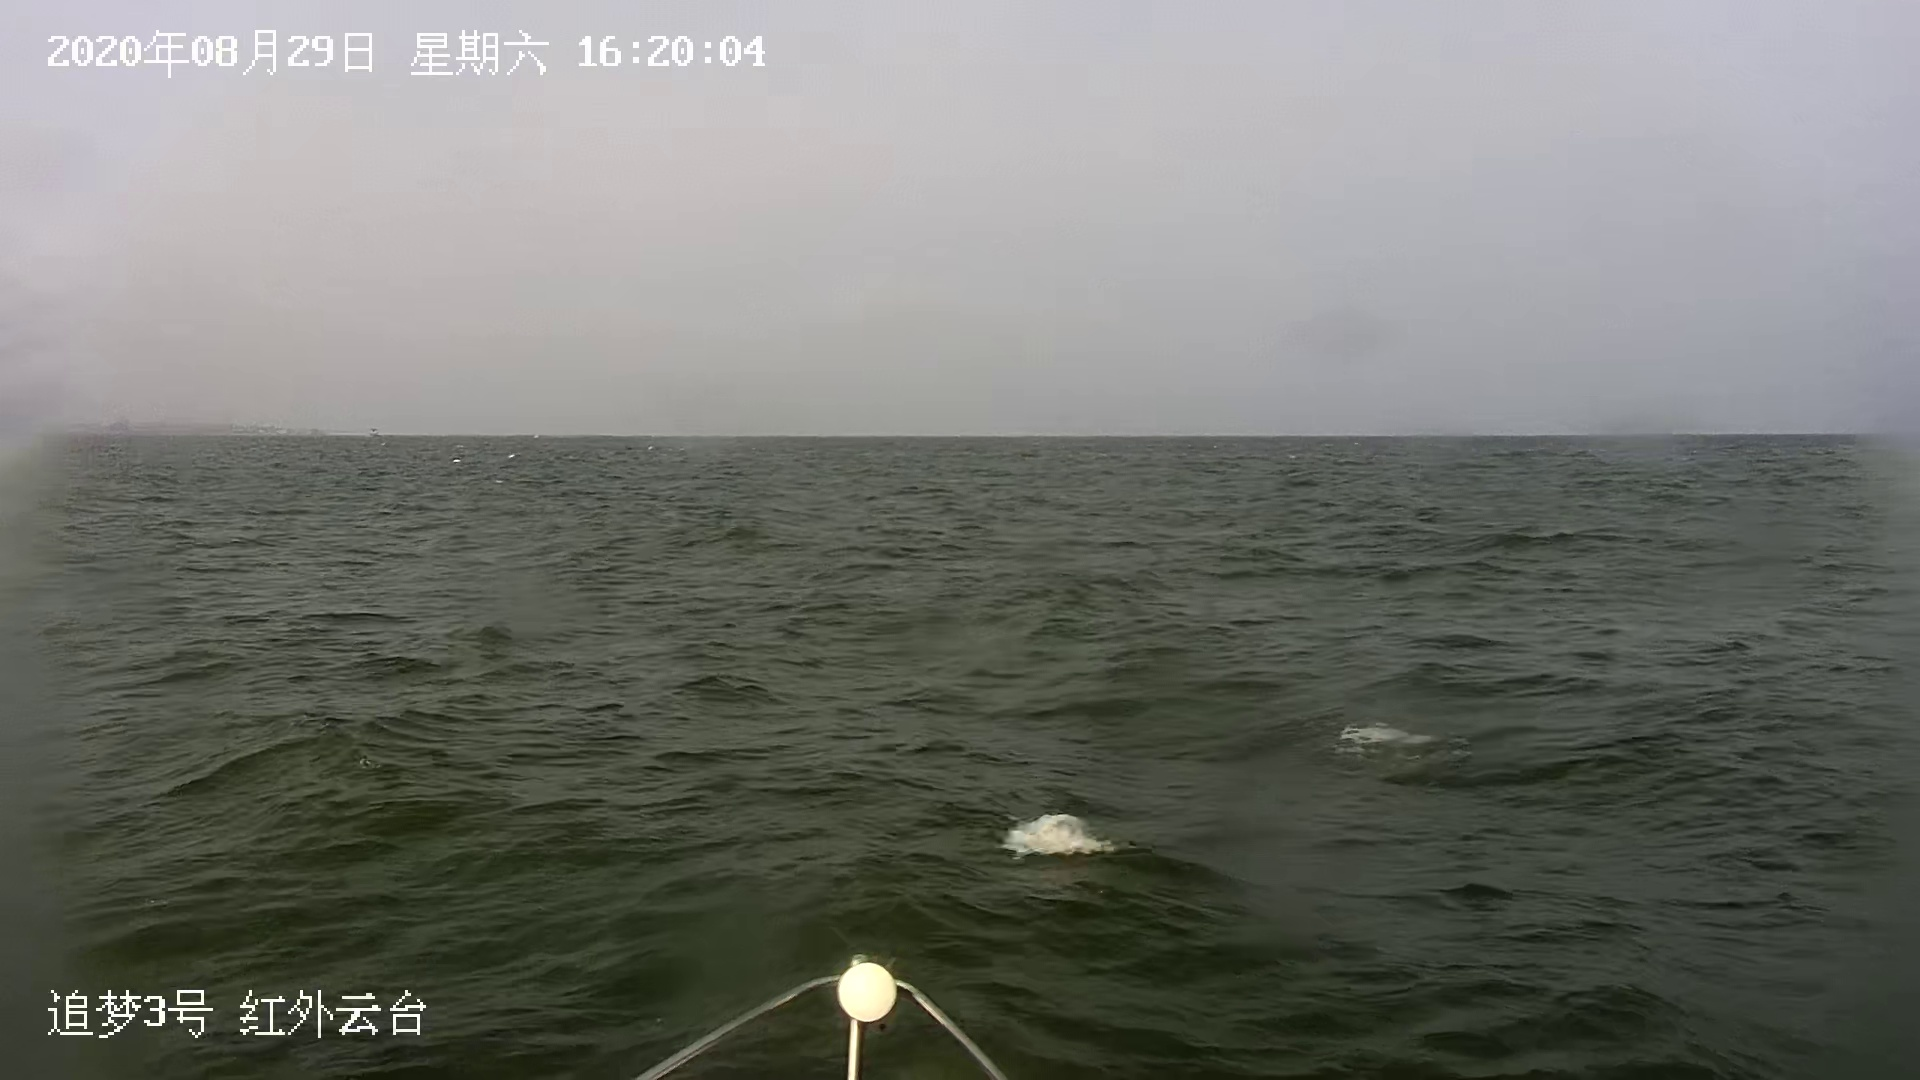coast: (0, 417, 419, 436)
this: (636, 957, 1004, 1079)
